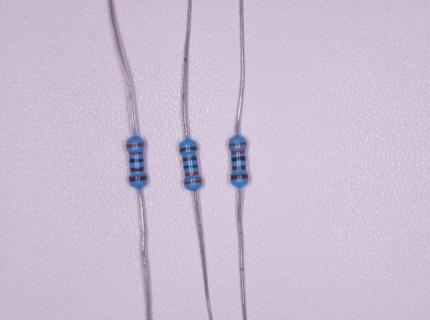Black band: (231, 156, 246, 162), (130, 158, 144, 164), (184, 164, 199, 169)
Brown band: (179, 146, 198, 153), (129, 175, 147, 182), (230, 174, 248, 180), (183, 156, 198, 162), (232, 165, 246, 171), (130, 167, 145, 172)
Orange band: (184, 179, 202, 185), (126, 143, 145, 148), (229, 142, 247, 147), (185, 171, 199, 177), (129, 151, 144, 156), (231, 150, 246, 155)
